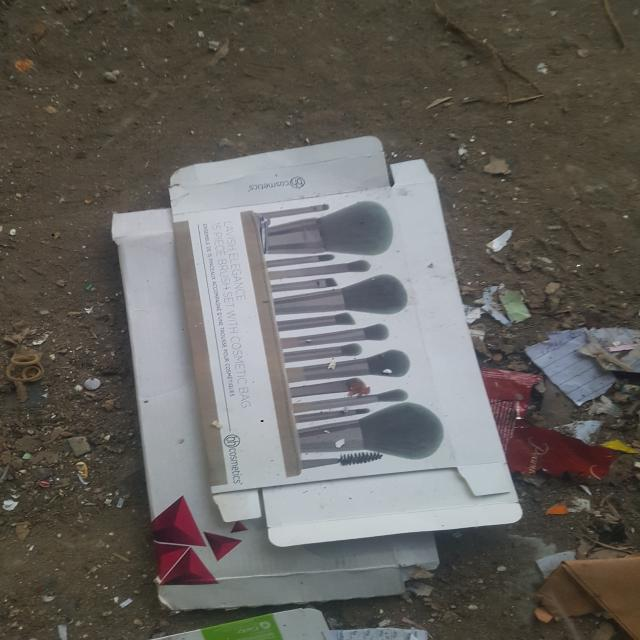electronic: (180, 136, 523, 548)
